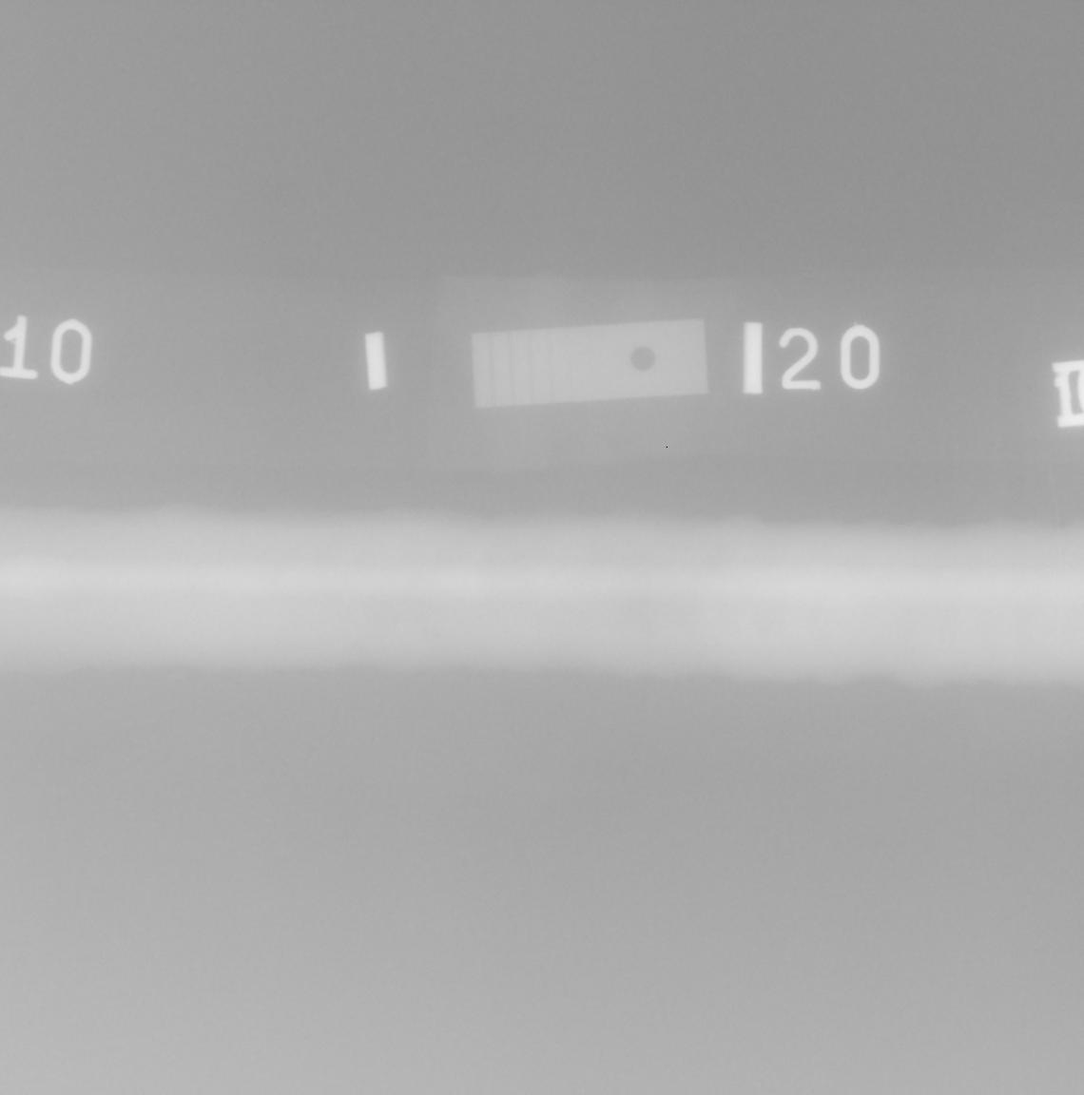Inclusion: (425, 631, 443, 642), (421, 630, 433, 636), (433, 624, 436, 627)
Reference Standard 1: (472, 318, 708, 408)
